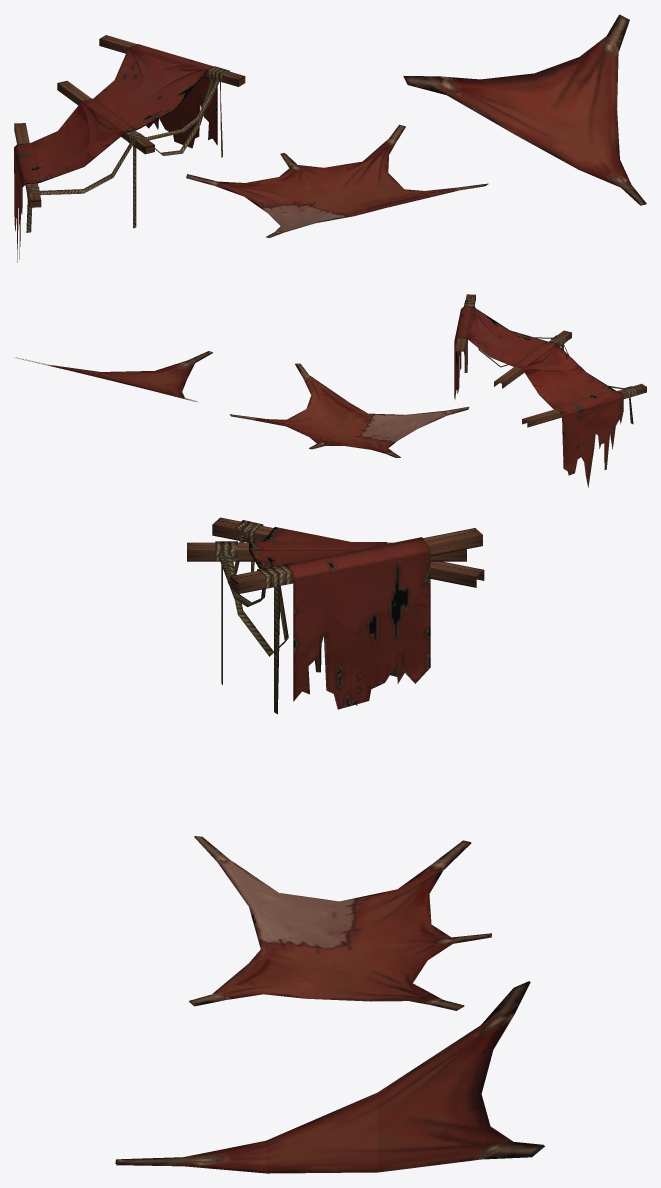
The model's file is 2_SM_PoBu_01.FBX.
The picture shows the model from 3 angles, top to bottom: view 1: azimuth 30°, elevation 25°; view 2: azimuth 150°, elevation 25°; view 3: azimuth 270°, elevation 25°; orthographic projection. The views are drawn at different scales.
Visible parts, largest first — view 1: 2_SM_PoBu_01, 2_SM_PoBu_03, 2_SM_PoBu_02; view 2: 2_SM_PoBu_01, 2_SM_PoBu_02, 2_SM_PoBu_03; view 3: 2_SM_PoBu_01, 2_SM_PoBu_03, 2_SM_PoBu_02.
Boxes of the visible parts, box(x1,y1,x2,y2) form: 2_SM_PoBu_01: box(14, 35, 245, 262); 2_SM_PoBu_03: box(403, 14, 646, 205); 2_SM_PoBu_02: box(186, 124, 488, 237); 2_SM_PoBu_01: box(454, 294, 646, 487); 2_SM_PoBu_02: box(230, 363, 469, 457); 2_SM_PoBu_03: box(16, 351, 212, 402); 2_SM_PoBu_01: box(187, 517, 484, 714); 2_SM_PoBu_03: box(115, 981, 544, 1173); 2_SM_PoBu_02: box(189, 836, 491, 1010).
Bounding box in the file's own units: 2282 × 592 × 766.
